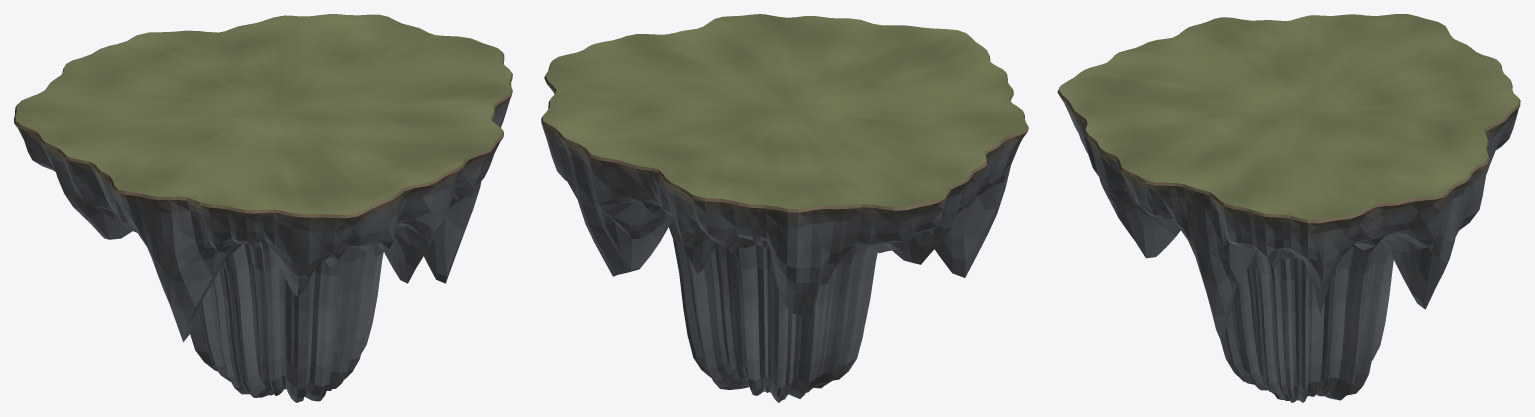
The model's file is asteroid-v02.glb.
3 renders of one model, left to right at view 1: azimuth 30°, elevation 25°; view 2: azimuth 150°, elevation 25°; view 3: azimuth 270°, elevation 25°, orthographic. The views are drawn at different scales.
Parts seen in each view (by area): view 1: Asteroid_Surface, Asteroid_Rock; view 2: Asteroid_Surface, Asteroid_Rock; view 3: Asteroid_Surface, Asteroid_Rock.
Part boxes in pixels (bbox=[...]): Asteroid_Surface: bbox=[15, 14, 511, 214]; Asteroid_Rock: bbox=[14, 53, 512, 402]; Asteroid_Surface: bbox=[542, 14, 1027, 209]; Asteroid_Rock: bbox=[541, 54, 1028, 402]; Asteroid_Surface: bbox=[1059, 14, 1519, 220]; Asteroid_Rock: bbox=[1057, 64, 1520, 402].
Size of the model in its own units: 104 by 62.84 by 97.94.
